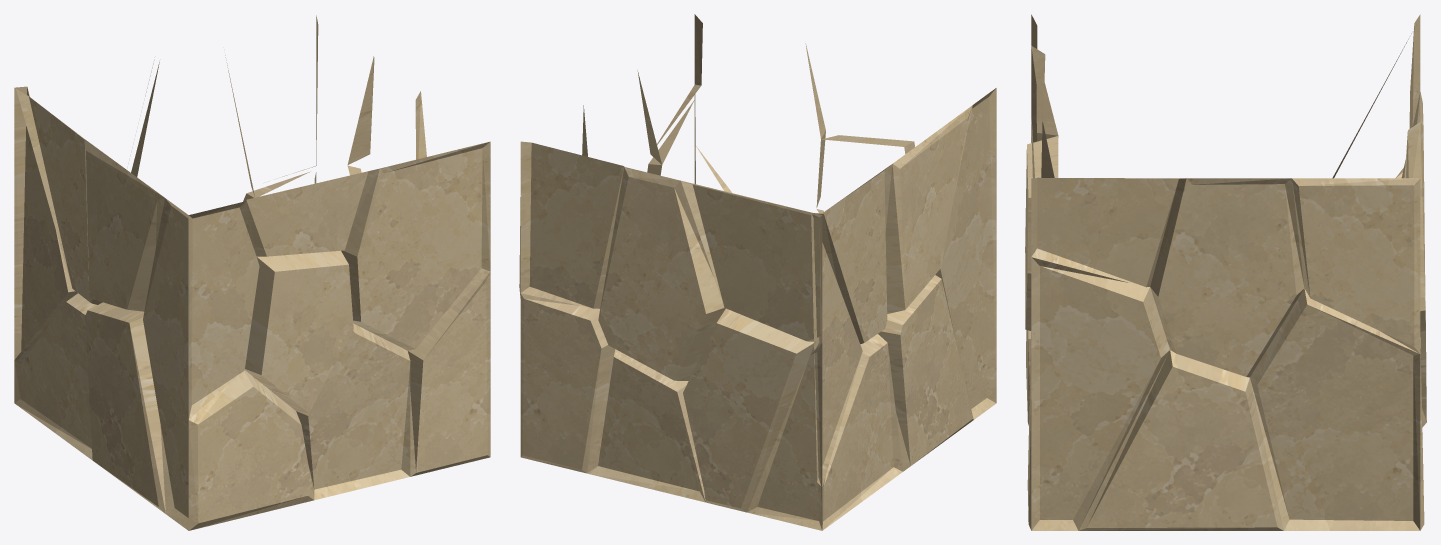
The model's file is ground_rock_03.gltf.
The picture shows the model from 3 angles, left to right: view 1: azimuth 30°, elevation 25°; view 2: azimuth 150°, elevation 25°; view 3: azimuth 270°, elevation 25°; orthographic projection. The views are drawn at different scales.
Parts seen in each view (by area): view 1: ground_rock_03; view 2: ground_rock_03; view 3: ground_rock_03.
Boxes of the visible parts, bbox=[...] form: ground_rock_03: bbox=[14, 15, 490, 530]; ground_rock_03: bbox=[519, 14, 996, 530]; ground_rock_03: bbox=[1025, 14, 1426, 530].
Bounding box in the file's own units: 1.03 × 1 × 1.03.
27 materials, 27 textured.
